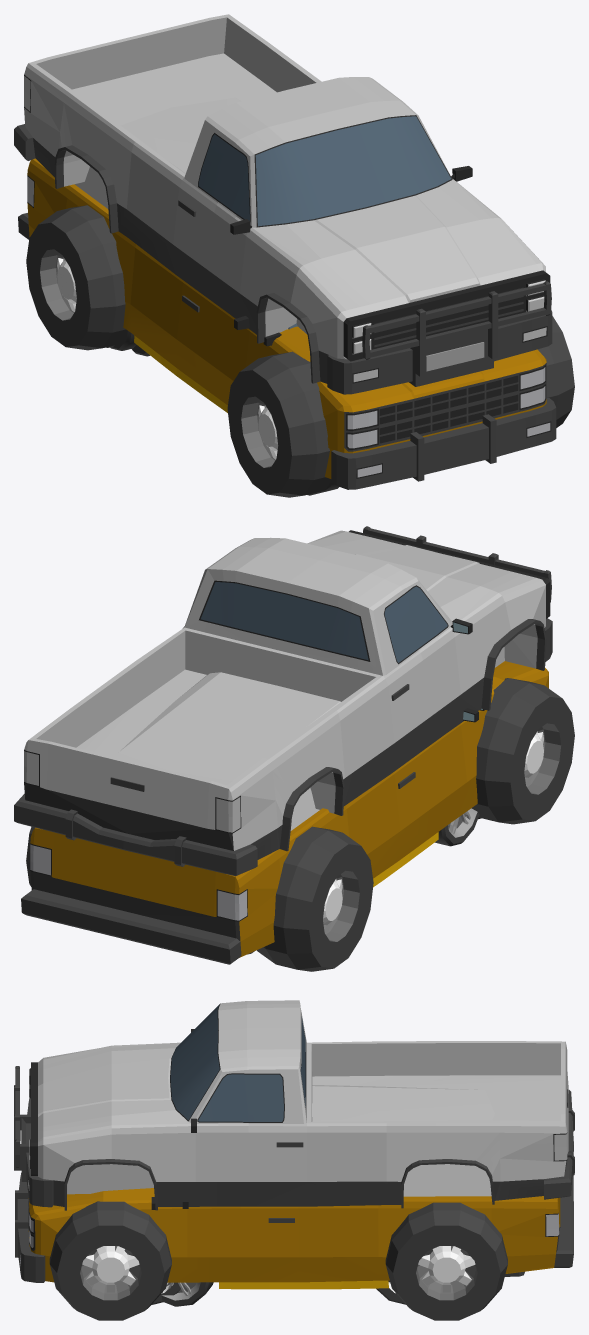
The model's file is vehicles.glb.
The picture shows the model from 3 angles, top to bottom: view 1: azimuth 30°, elevation 25°; view 2: azimuth 150°, elevation 25°; view 3: azimuth 270°, elevation 25°; orthographic projection. The views are drawn at different scales.
Parts seen in each view (by area): view 1: car_monster, car_pickup, car_monster_wheel_3, car_monster_wheel_1, car_van, car_monster_wheel_2, car_sport; view 2: car_monster, car_pickup, car_van, car_monster_wheel_1, car_monster_wheel_3, car_sport_wheel_3, car_sport; view 3: car_monster, car_pickup, car_monster_wheel_2, car_monster_wheel_0, car_van, car_sport, car_sport_wheel_2.
Boxes of the visible parts, x1=… form: car_monster: x1=14, y1=14, x2=552, y2=394; car_pickup: x1=18, y1=158, x2=556, y2=489; car_monster_wheel_3: x1=227, y1=351, x2=331, y2=497; car_monster_wheel_1: x1=26, y1=205, x2=127, y2=350; car_van: x1=75, y1=97, x2=297, y2=346; car_monster_wheel_2: x1=538, y1=316, x2=574, y2=427; car_sport: x1=134, y1=335, x2=227, y2=412; car_monster: x1=14, y1=526, x2=552, y2=876; car_pickup: x1=21, y1=661, x2=548, y2=964; car_van: x1=118, y1=672, x2=484, y2=954; car_monster_wheel_1: x1=256, y1=826, x2=373, y2=971; car_monster_wheel_3: x1=471, y1=678, x2=574, y2=824; car_sport_wheel_3: x1=435, y1=808, x2=479, y2=846; car_sport: x1=373, y1=832, x2=438, y2=887; car_monster: x1=14, y1=1000, x2=574, y2=1210; car_pickup: x1=15, y1=1172, x2=573, y2=1282; car_monster_wheel_2: x1=49, y1=1201, x2=171, y2=1320; car_monster_wheel_0: x1=385, y1=1202, x2=507, y2=1320; car_van: x1=151, y1=1085, x2=524, y2=1281; car_sport: x1=219, y1=1280, x2=388, y2=1289; car_sport_wheel_2: x1=161, y1=1282, x2=213, y2=1306.
Bounding box in the file's own units: 2.95 × 2.88 × 6.07.
1 material, 1 textured.
